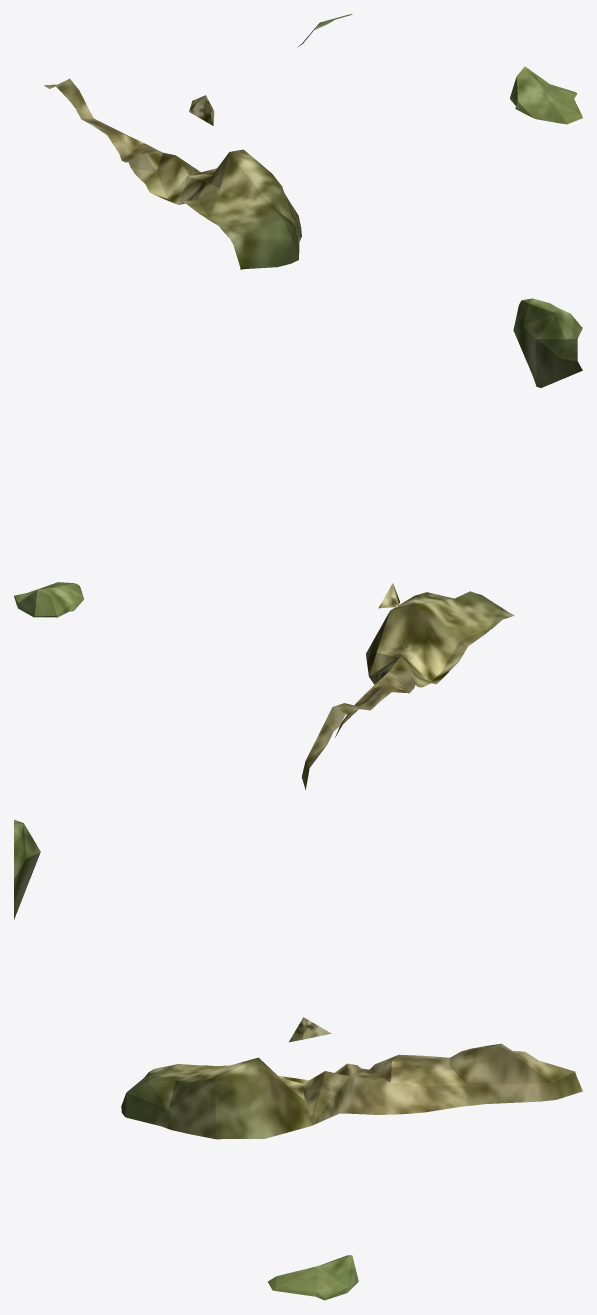
3 views of the same model, one above another, from view 1: azimuth 30°, elevation 25°; view 2: azimuth 150°, elevation 25°; view 3: azimuth 270°, elevation 25° (orthographic). The views are drawn at different scales.
Bounding box in the file's own units: 1.75 × 1.11 × 2.02.
Materials: 1 (1 with a texture image).
